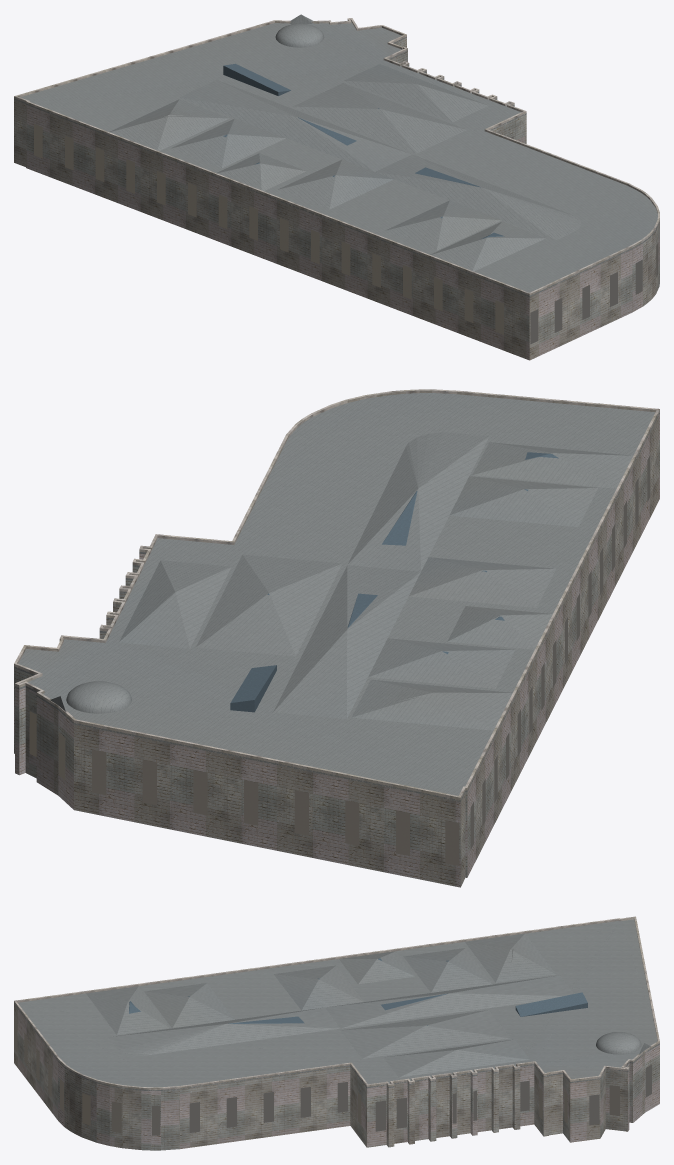
Rendered from palais-de-tokyo.glb.
3 views of the same model, one above another, from view 1: azimuth 30°, elevation 25°; view 2: azimuth 150°, elevation 25°; view 3: azimuth 270°, elevation 25° (orthographic). The views are drawn at different scales.
Visible parts, largest first — view 1: roof, stone, window, trim, glass; view 2: roof, stone, trim, window, glass; view 3: roof, stone, window, trim, glass.
Boxes of the visible parts, x1,y1,x2,y2 form: roof: (14, 14, 659, 296); stone: (14, 38, 659, 360); window: (34, 124, 658, 344); trim: (14, 18, 659, 295); glass: (223, 63, 504, 239); roof: (14, 393, 659, 801); stone: (14, 414, 659, 887); trim: (14, 389, 659, 801); window: (29, 455, 650, 865); glass: (230, 452, 558, 712); roof: (14, 919, 659, 1090); stone: (14, 1004, 659, 1150); window: (14, 1019, 651, 1135); trim: (14, 916, 659, 1090); glass: (129, 958, 587, 1025).
Size of the model in its own units: 74.4 by 14 by 118.
5 materials, 5 textured.
